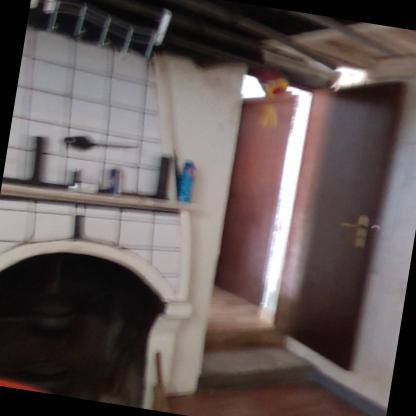open: (176, 47, 414, 406)
